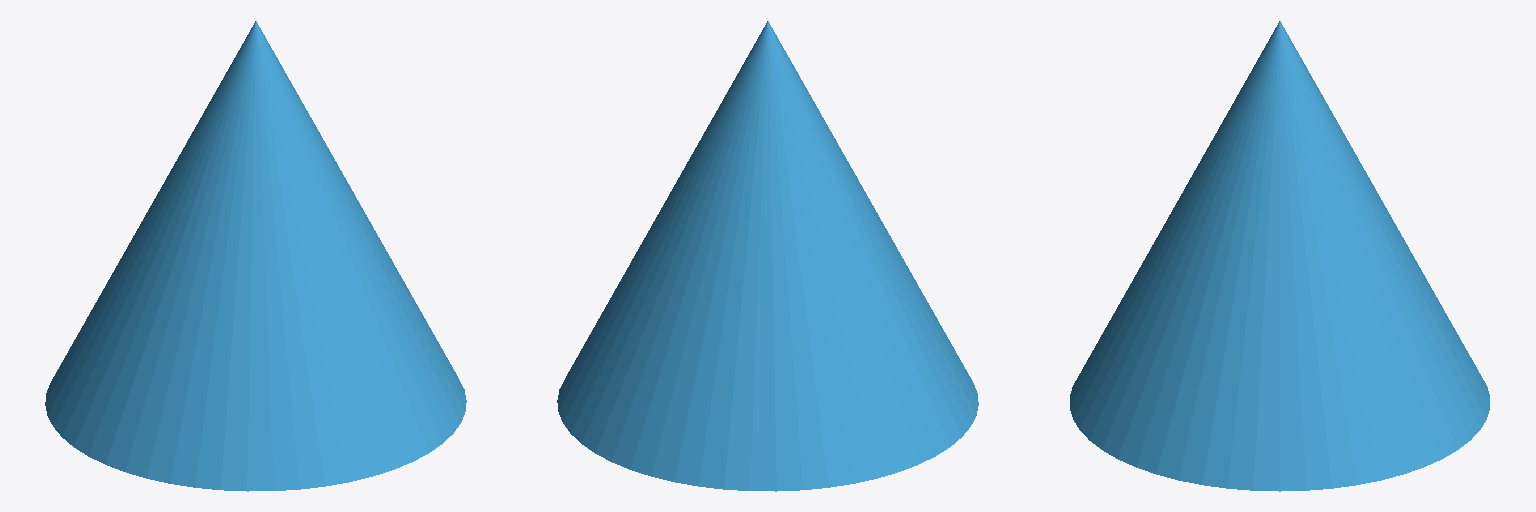
The robot description file, URDF, robot "box_bot":
<?xml version="1.0"?>
<robot name="box_bot">
        
  <material name="red">
      <color rgba="1.0 0.0 0.0 1"/>
  </material>

  <material name="green_light">
      <color rgba="0.0 1.0 0.0 1"/>
  </material>

  <material name="green_dark">
    <color rgba="0.0 0.5 0.0 1"/>
  </material>

  <material name="blue">
      <color rgba="0.0 0.0 1.0 1"/>
  </material>

  <link name="base_link">
  </link>


  <!-- Body -->
  <link name="chassis">
    <visual>
      <geometry>
        <mesh filename="package://load_gazebo/test_objects/cone.stl" scale="0.1 0.1 0.1"/>
      </geometry>
    </visual>

    <collision>
      <geometry>
        <box size="0.1 0.1 0.1"/>
      </geometry>
    </collision>

    <inertial>
      <mass value="0.5"/>
      <origin rpy="0 0 0" xyz="0 0 0"/>
      <inertia ixx="0.0008333333333333335" ixy="0" ixz="0" iyy="0.0008333333333333335" iyz="0" izz="0.0008333333333333335"/>
    </inertial>
  </link>

  <joint name="base_link_joint" type="fixed">
    <origin rpy="0 0 0" xyz="0 0 0" />
    <parent link="base_link" />
    <child link="chassis" />
  </joint>

</robot>

--- Render facts (derived) ---
Views: 3 orthographic renders of the robot side by side, from view 1: azimuth 30°, elevation 25°; view 2: azimuth 150°, elevation 25°; view 3: azimuth 270°, elevation 25°.
Model box_bot with 2 links and 1 joints (1 fixed), rooted at base_link, posed every joint at zero.
Visible links, largest first — view 1: chassis; view 2: chassis; view 3: chassis.
Link boxes in pixels (left/top/right/bottom): chassis: left=45, top=21, right=466, bottom=491; chassis: left=557, top=21, right=978, bottom=491; chassis: left=1070, top=21, right=1489, bottom=491.
Size in the robot's own frame: 3 by 2.99 by 3 metres.
Meshes: 1 distinct files referenced, 1 mesh visuals loaded (1 ASCII STL).